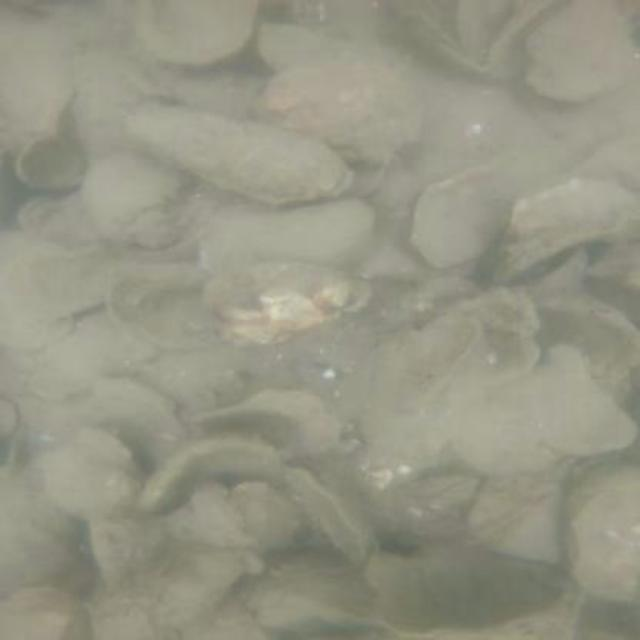Oyster-Closed: (123, 106, 340, 198), (253, 56, 413, 160), (492, 347, 632, 453), (201, 200, 373, 274), (522, 0, 640, 103), (0, 454, 78, 597), (85, 155, 197, 244), (43, 427, 146, 517), (575, 465, 640, 603)
